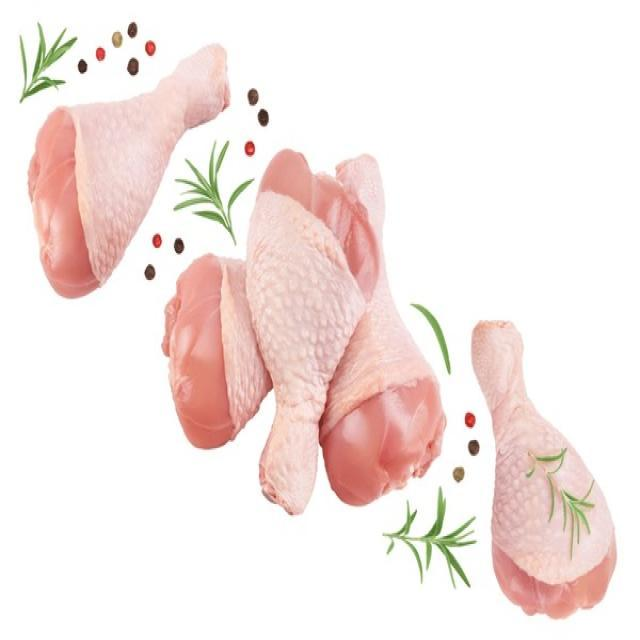leg: (17, 33, 226, 294), (470, 316, 616, 621), (323, 143, 443, 502), (260, 155, 374, 518), (158, 254, 284, 453)
